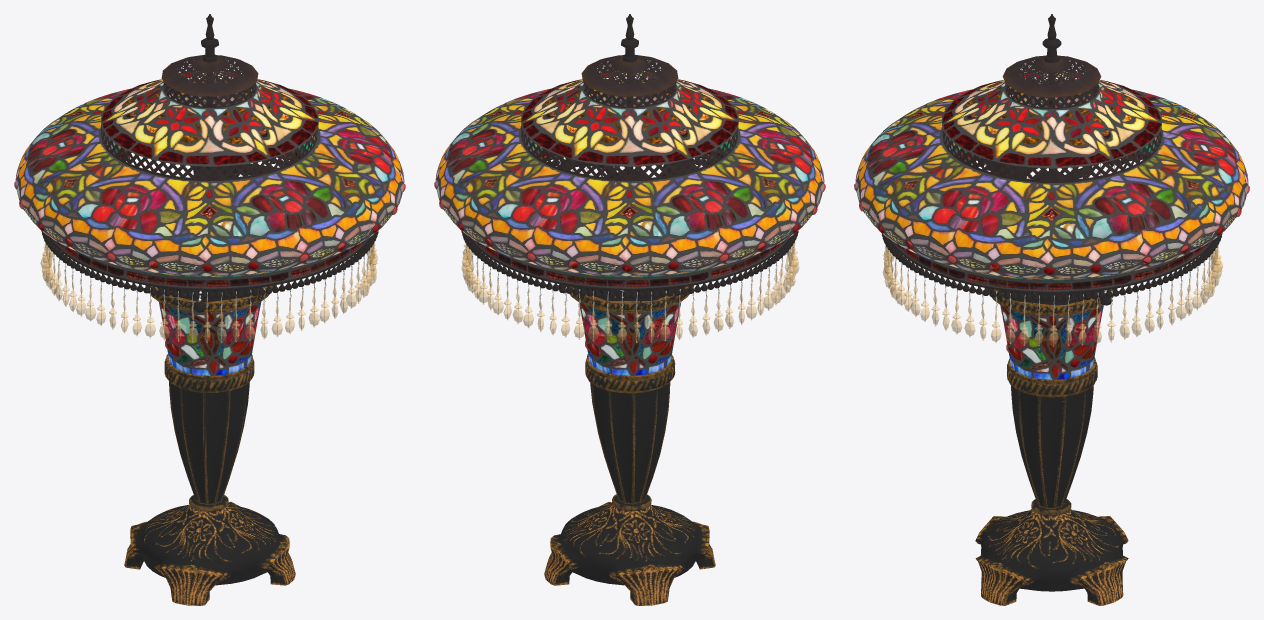
The model's file is khr_StainedGlassLamp.glb.
3 renders of one model, left to right at view 1: azimuth 30°, elevation 25°; view 2: azimuth 150°, elevation 25°; view 3: azimuth 270°, elevation 25°, orthographic.
Visible parts, largest first — view 1: stainedglass, base, grill, amberbeads, hardware, steel, redgems; view 2: stainedglass, base, grill, amberbeads, hardware, steel, redgems; view 3: stainedglass, base, grill, amberbeads, hardware, steel, redgems.
Part boxes in pixels (x1,y1,x2,y2): stainedglass: [15, 71, 404, 375]; base: [124, 263, 295, 605]; grill: [101, 55, 317, 180]; amberbeads: [40, 177, 377, 343]; hardware: [41, 14, 378, 312]; steel: [45, 162, 373, 342]; redgems: [14, 101, 405, 363]; stainedglass: [435, 71, 824, 375]; base: [544, 263, 715, 605]; grill: [521, 55, 737, 181]; amberbeads: [461, 170, 799, 342]; hardware: [461, 14, 798, 298]; steel: [466, 160, 794, 342]; redgems: [434, 104, 825, 363]; stainedglass: [855, 71, 1248, 379]; base: [975, 266, 1128, 605]; grill: [942, 55, 1161, 182]; amberbeads: [882, 170, 1222, 346]; hardware: [882, 14, 1222, 305]; steel: [886, 163, 1217, 345]; redgems: [854, 105, 1249, 367].
Size of the model in its own units: 0.4399 by 0.6889 by 0.4399.
Materials: 8 (4 with a texture image).
